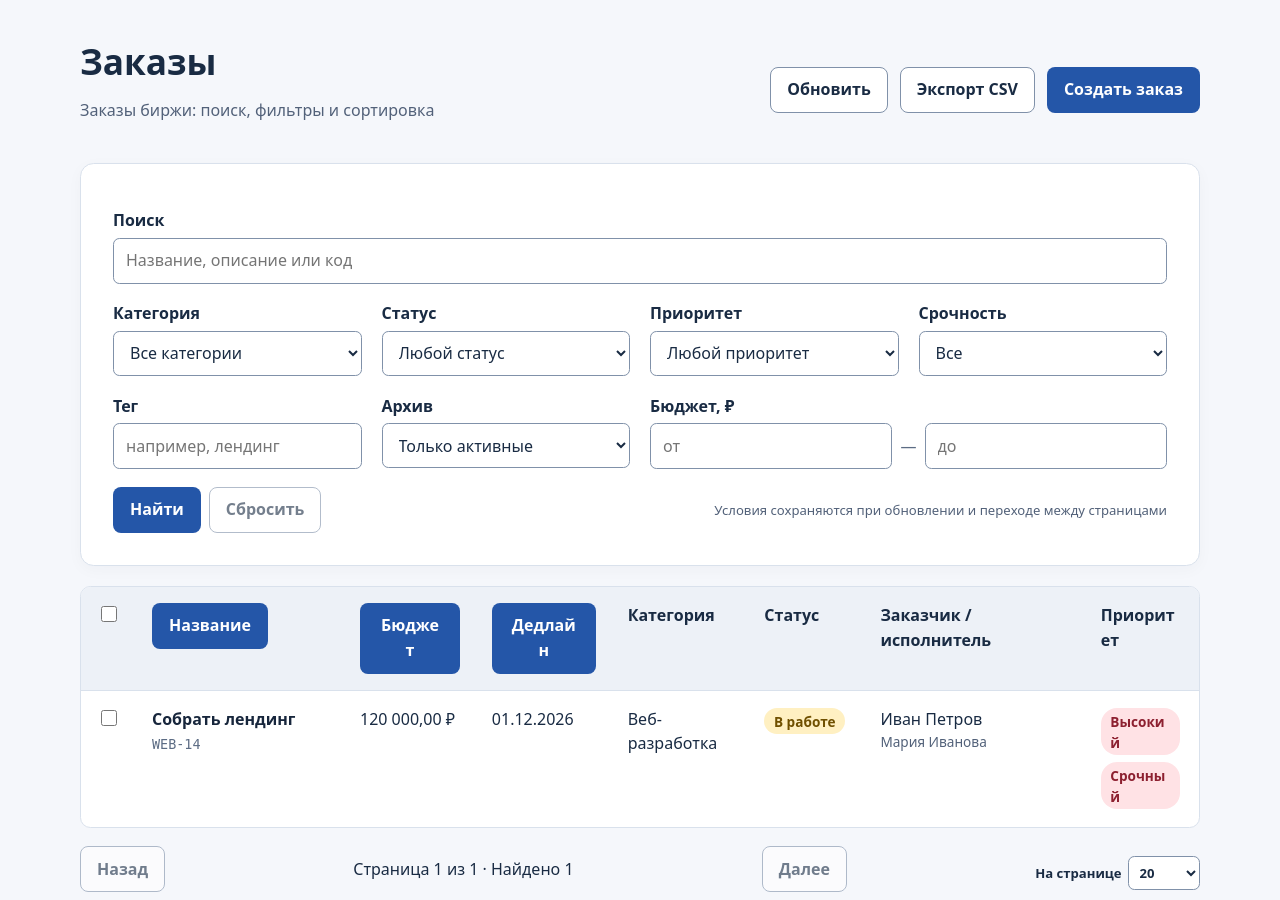
Scenario: OrdersPage › открывает массовые действия у выбранного заказа
Expected: the link "Собрать лендинг" is shown, [152,708,295,730]
Click the checkbox named "Выбрать заказ WEB-14" at (109, 718), box [101,710,117,726]
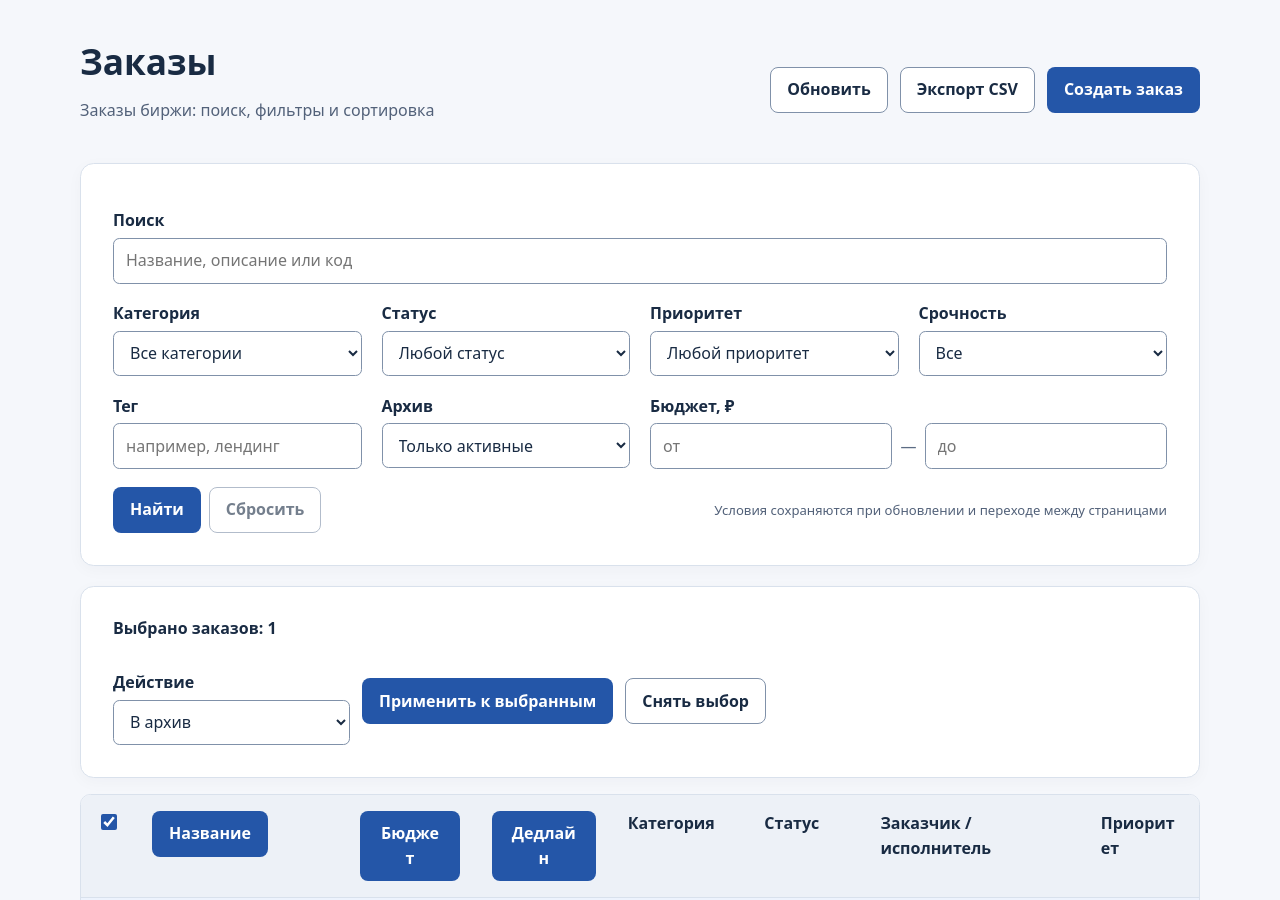
Expected: the heading "Выбрано заказов: 1" is shown, [113,617,277,639]
Expected: the dropdown labelled "Действие" is shown, [113,700,350,745]
